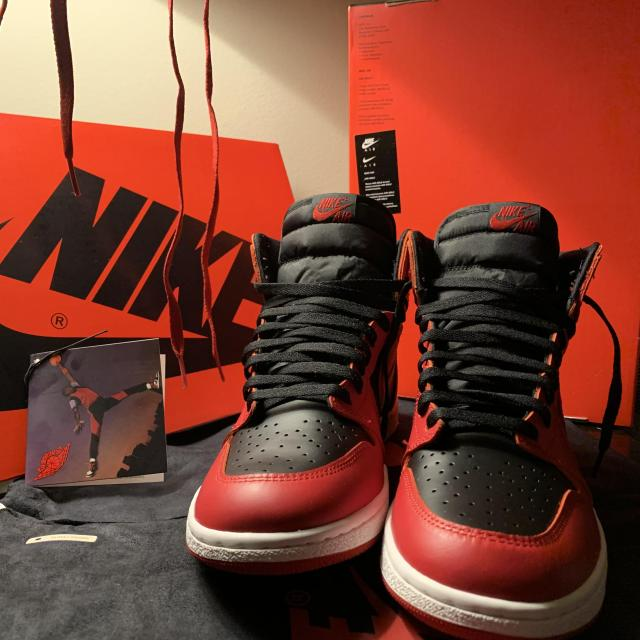shoe: (378, 199, 613, 640), (182, 190, 413, 576)
